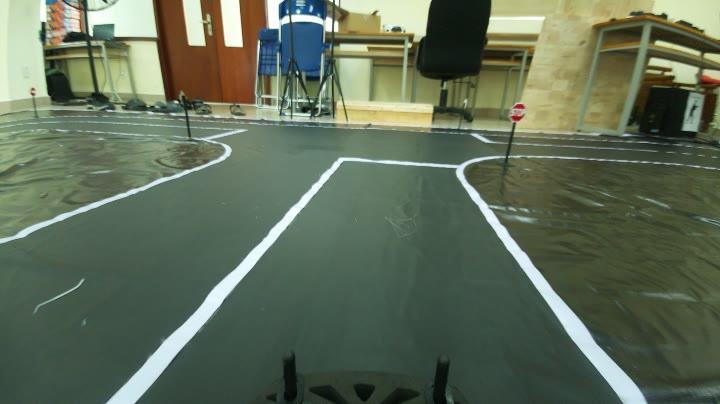stop: (505, 101, 530, 125)
